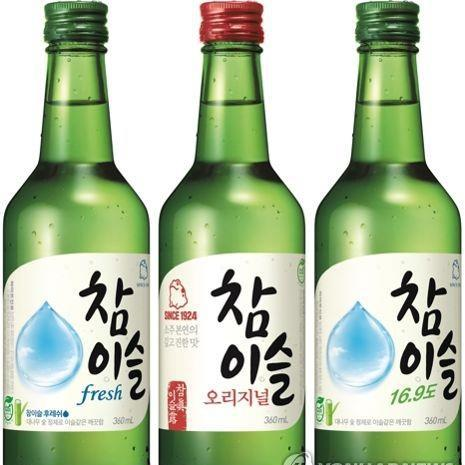soju: (6, 2, 463, 465)
